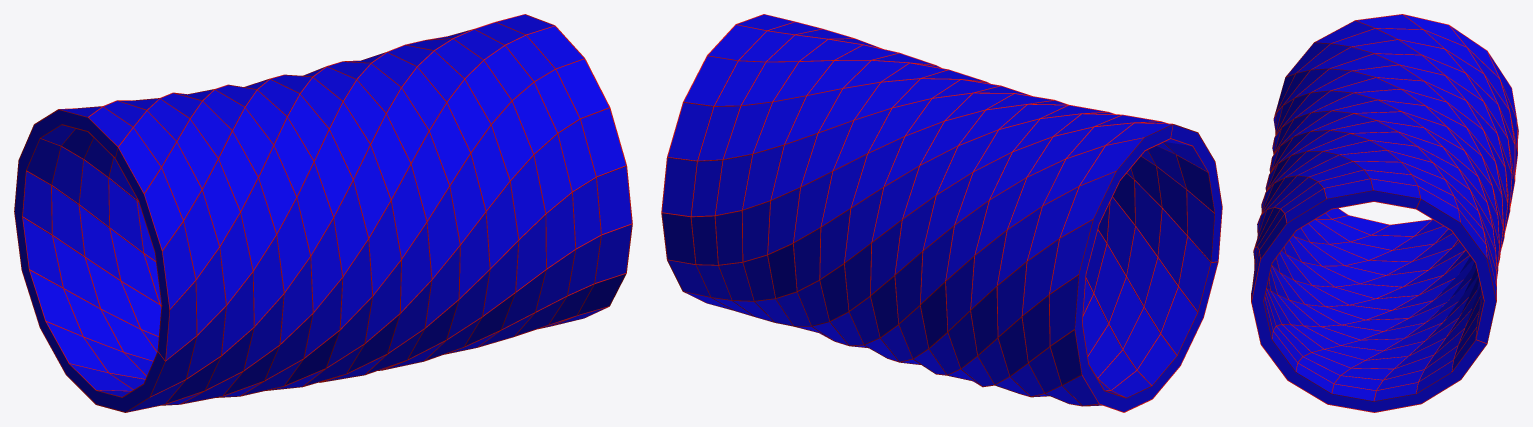
3 renders of one model, left to right at view 1: azimuth 30°, elevation 25°; view 2: azimuth 150°, elevation 25°; view 3: azimuth 270°, elevation 25°, orthographic. The views are drawn at different scales.
Parts seen in each view (by area): view 1: Cylinder; view 2: Cylinder; view 3: Cylinder.
Boxes of the visible parts, x1,y1,x2,y2 form: Cylinder: (14, 14, 632, 412); Cylinder: (661, 14, 1222, 412); Cylinder: (1251, 14, 1518, 412).
Bounding box in the file's own units: 1002 × 628 × 655.
